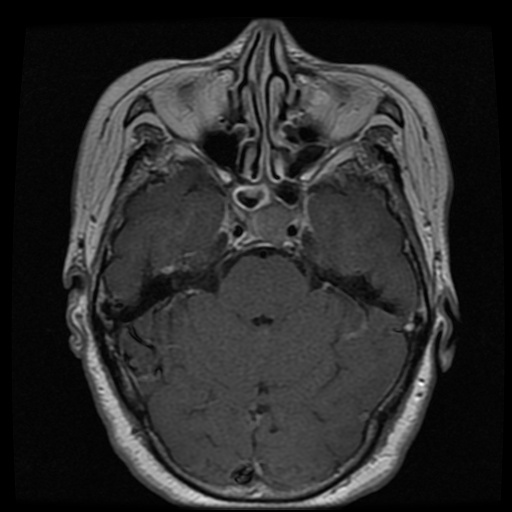pituitary: (247, 202, 288, 243)
